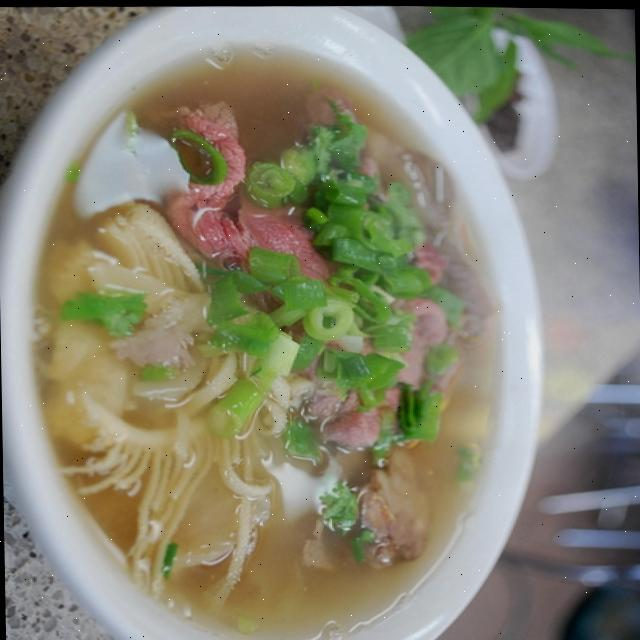面条主食: (39, 25, 558, 640)
